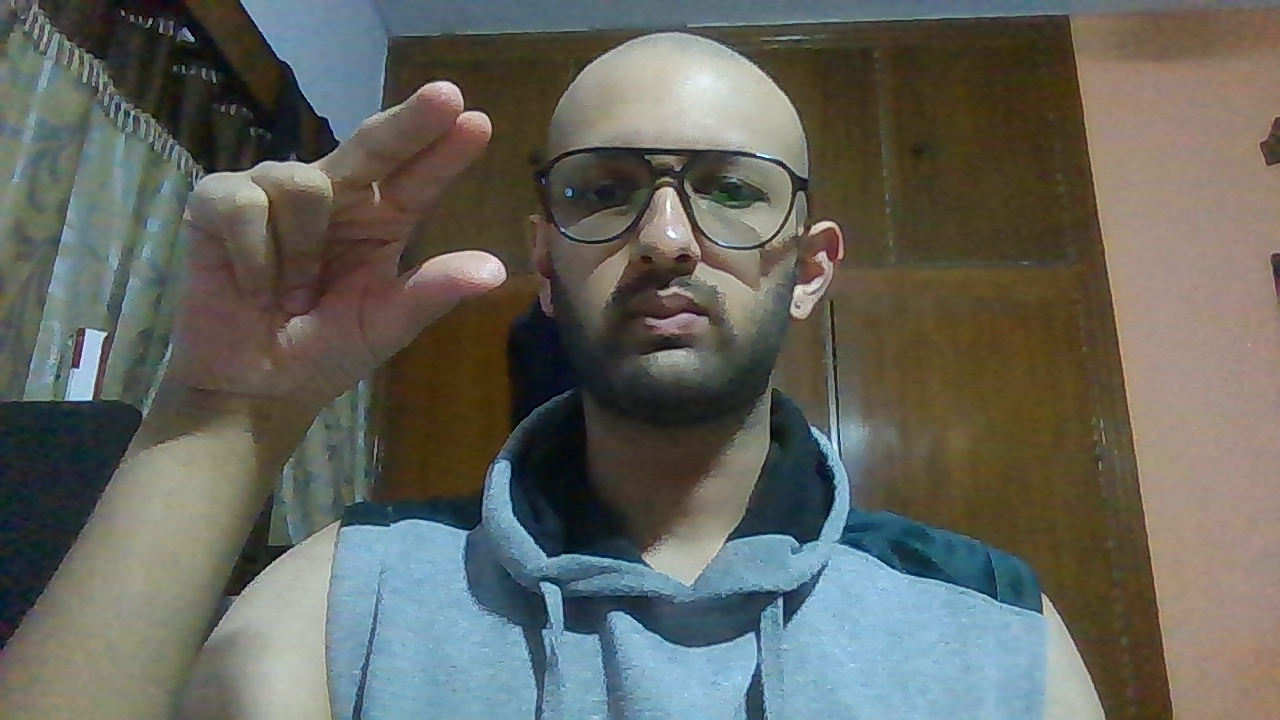No: (177, 72, 509, 409)
